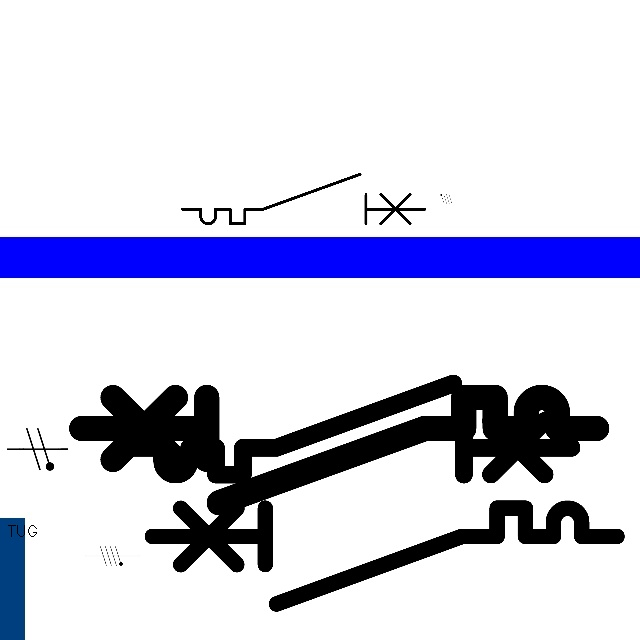interruptor_termomagnetico: (68, 384, 609, 516), (140, 496, 629, 615), (117, 372, 583, 486), (176, 168, 431, 230)
